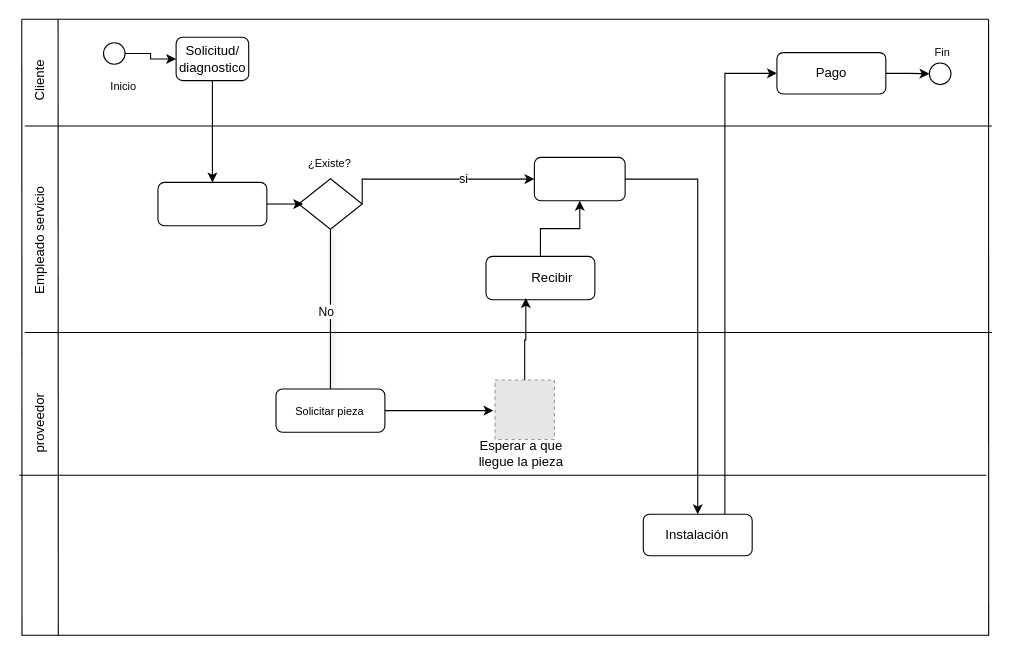
Image size: 1013x657. Some labels were removed from this diagram. Grey dashed boxes stand in for pictures. Here are the shapes that lost their labels. From the top down, the centre of each, then its label:
(579,178): Facturar
(212,203): Revisar inventario
